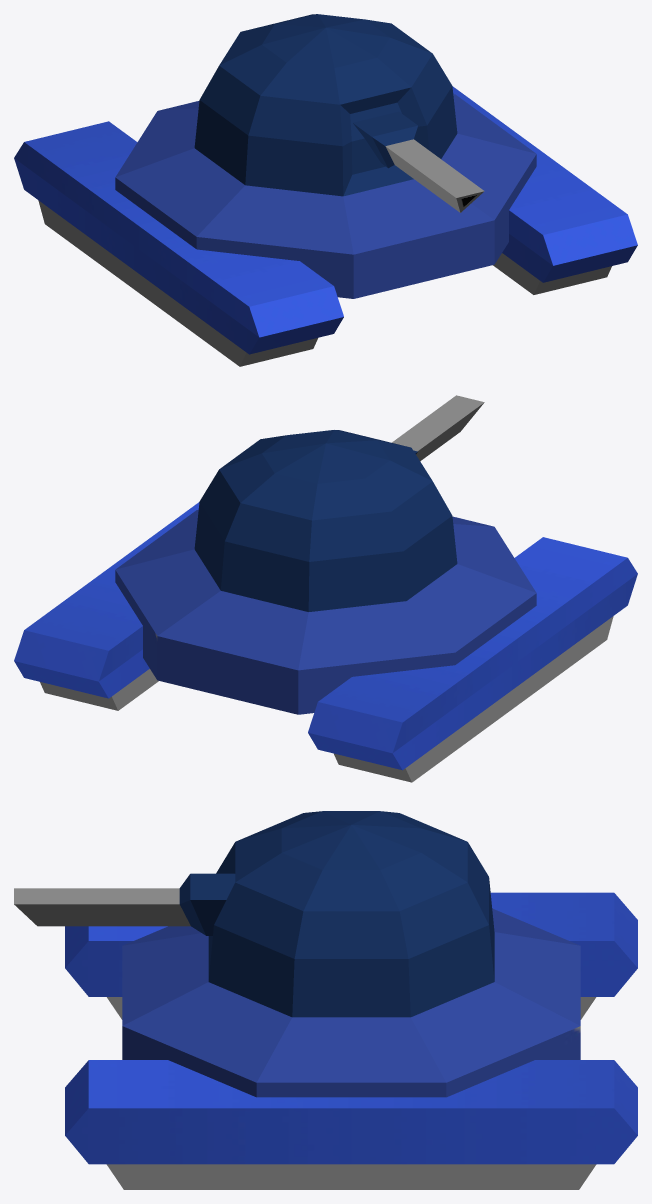
The model's file is tank.fbx.
3 views of the same model, one above another, from view 1: azimuth 30°, elevation 25°; view 2: azimuth 150°, elevation 25°; view 3: azimuth 270°, elevation 25° (orthographic). The views are drawn at different scales.
Parts seen in each view (by area): view 1: pCube5, pCylinder3; view 2: pCube5, pCylinder3; view 3: pCube5, pCylinder3.
Part boxes in pixels (x1,y1,x2,y2): pCube5: (14, 86, 637, 366); pCylinder3: (194, 14, 484, 212); pCube5: (14, 502, 637, 782); pCylinder3: (194, 395, 484, 611); pCube5: (65, 892, 637, 1189); pCylinder3: (14, 811, 494, 1017).
Size of the model in its own units: 5.15 by 2.9 by 6.3.
1 material, 1 textured.
